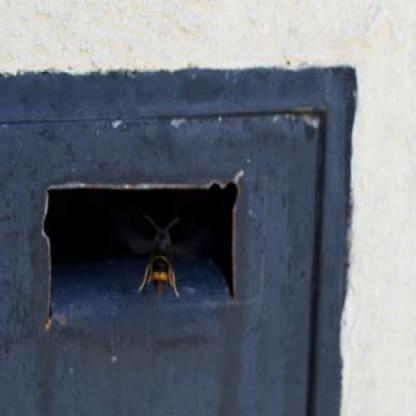Asian Hornet: (133, 204, 188, 297)
